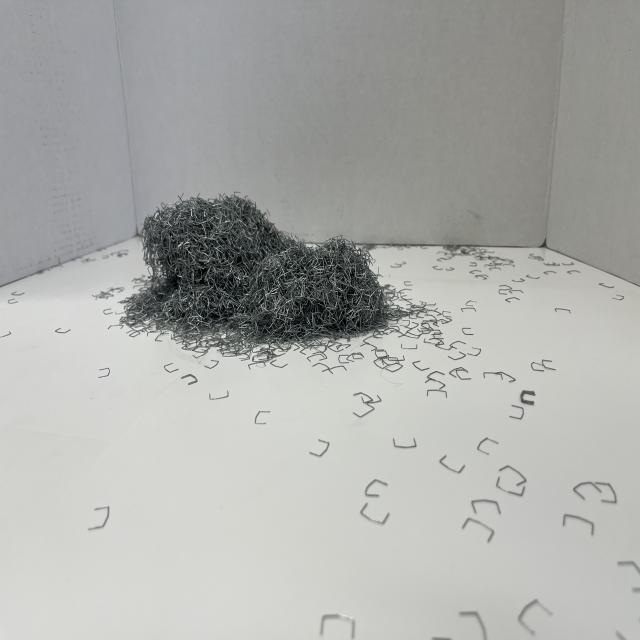staples: (119, 190, 396, 345)
